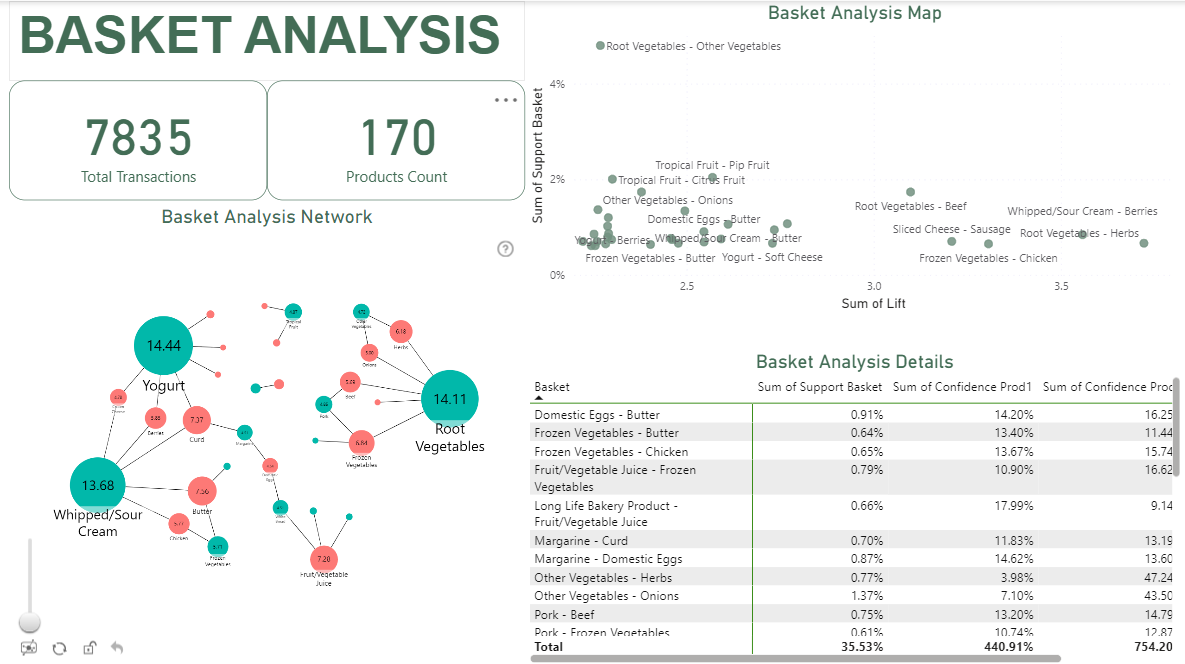

The page's visual inventory and layout, read from the dashboard file:
{"tool":"powerbi","page":{"name":"Page 1","canvas":[1280,720],"ordinal":0},"visuals":[{"type":"ZoomChartsDrillDownNetworkProA2D748C23BD44BE2BB019402882BCA1","title":"Basket Analysis Network","fields":{"Nodes":["Basket Analysis.Product1","Basket Analysis.Product2"],"Size":["Sum(Basket Analysis.Lift)"]},"box":[9.7,220.2,557,500.3],"z":0},{"type":"scatterChart","title":"Basket Analysis Map","fields":{"Category":["Basket Analysis.Basket"],"X":["Sum(Basket Analysis.Lift)"],"Y":["Sum(Basket Analysis.Support Basket)"]},"box":[566.7,0,712.5,338.4],"z":1000},{"type":"pivotTable","title":"Basket Analysis Details","fields":{"Rows":["Basket Analysis.Basket"],"Values":["Sum(Basket Analysis.Support Basket)","Sum(Basket Analysis.Confidence Prod1)","Sum(Basket Analysis.Confidence Prod2)","Sum(Basket Analysis.Lift)"]},"box":[566.9,378,712.4,342],"z":2000},{"type":"textbox","box":[9.7,0,557,85.8],"z":3000},{"type":"card","fields":{"Values":["Groceries.Total Transactions"]},"box":[9.7,85.8,278.5,129.5],"z":3001},{"type":"card","fields":{"Values":["Groceries.Products Count"]},"box":[288.2,85.8,278.5,129.5],"z":3002}]}

Visuals, with their boxes in screenshot pixels (x1, y1, x2, y2), scaled from the page's 1280x720 canvas onto the 1185x664 screenshot:
"Basket Analysis Network" ZoomChartsDrillDownNetworkProA2D748C23BD44BE2BB019402882BCA1: <box>9,203,525,663</box>
"Basket Analysis Map" scatterChart: <box>525,0,1184,312</box>
"Basket Analysis Details" pivotTable: <box>525,349,1184,663</box>
textbox: <box>9,0,525,79</box>
card - Groceries.Total Transactions: <box>9,79,267,199</box>
card - Groceries.Products Count: <box>267,79,525,199</box>
